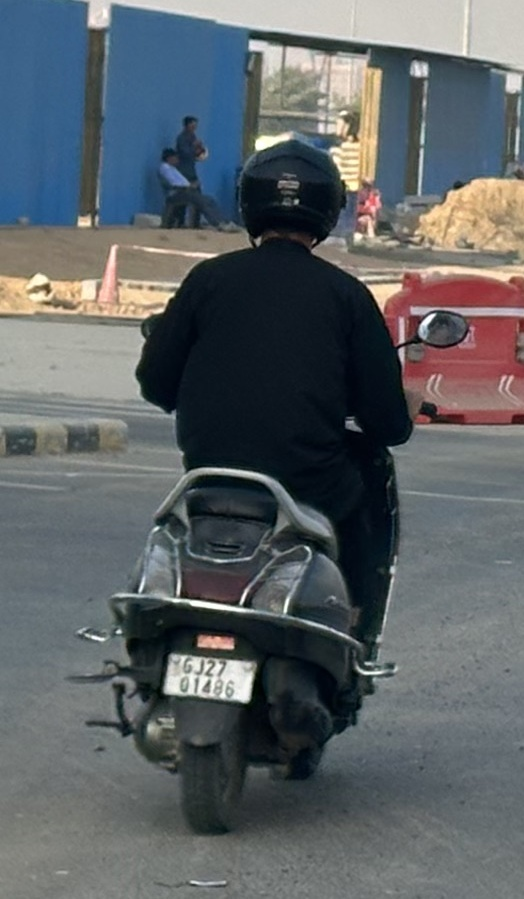BikeWithRider: (58, 128, 475, 844)
Helmet: (227, 129, 354, 257)
